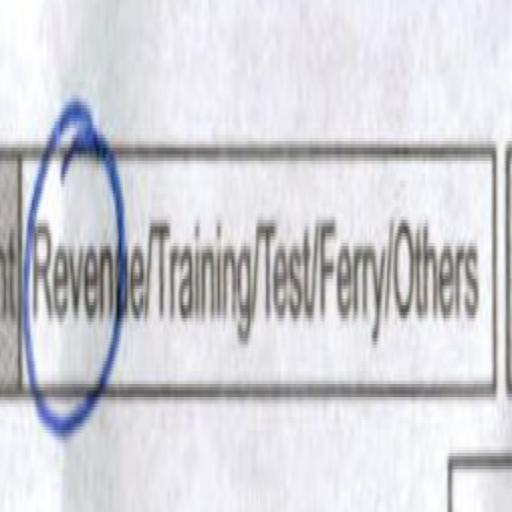check: (18, 75, 145, 453)
